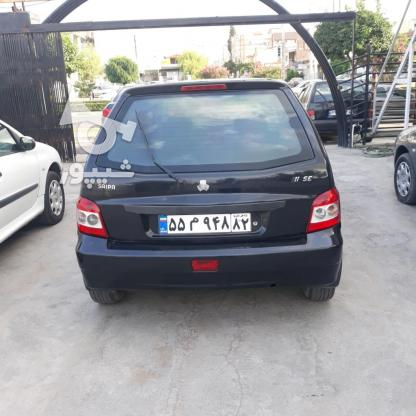car: (156, 214, 253, 233)
